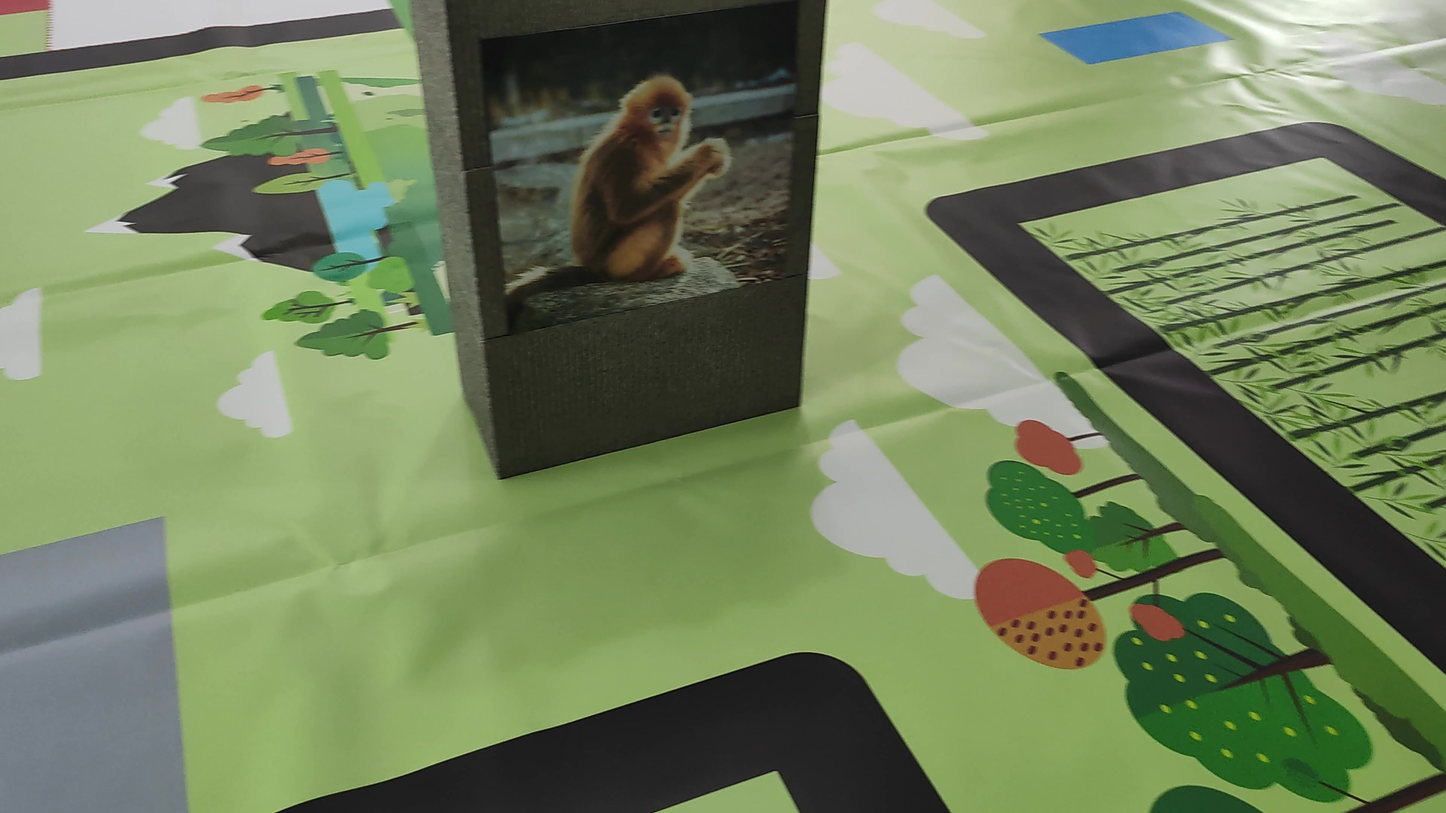monkey: (541, 58, 753, 300)
